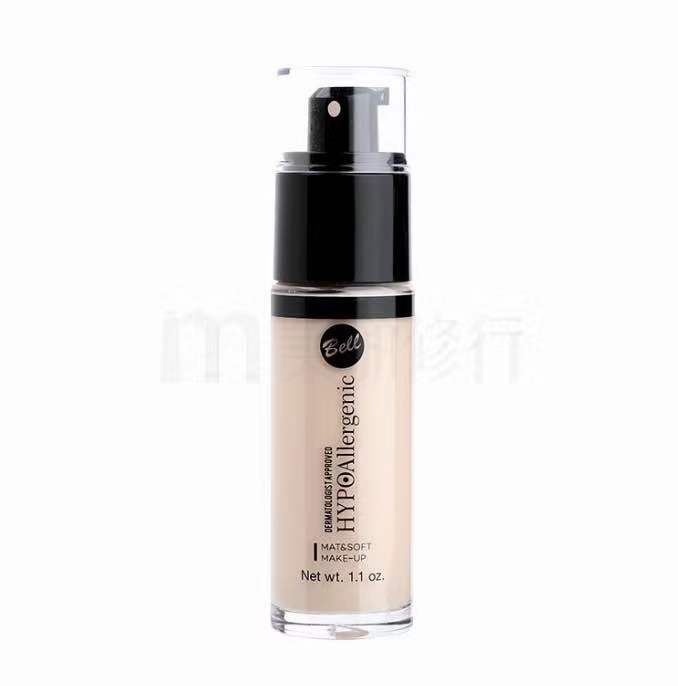cosmetic: (271, 66, 413, 639)
